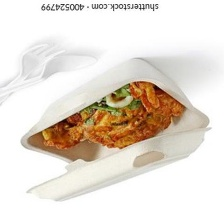foam_box: (15, 55, 217, 205)
